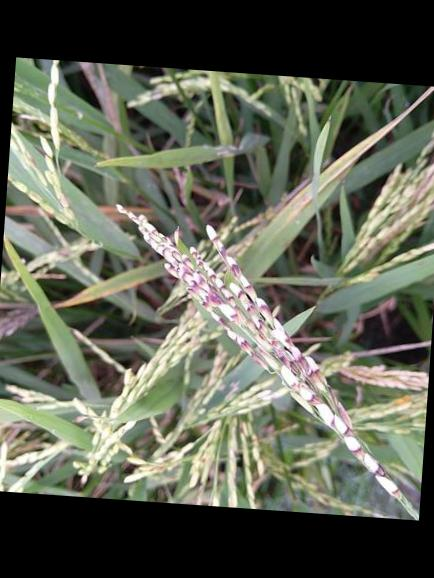Panicle Blight: (114, 205, 402, 500), (382, 138, 434, 239), (133, 452, 182, 473), (236, 424, 250, 437), (200, 457, 207, 464)
